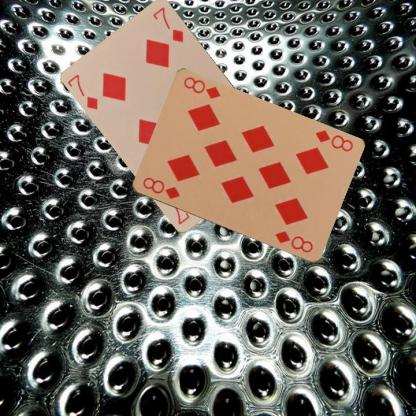7d: (65, 72, 100, 111)
8d: (312, 127, 354, 153), (140, 175, 181, 201)
